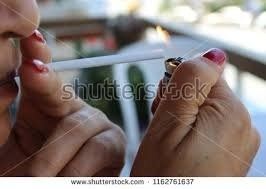fire: (146, 21, 174, 53)
